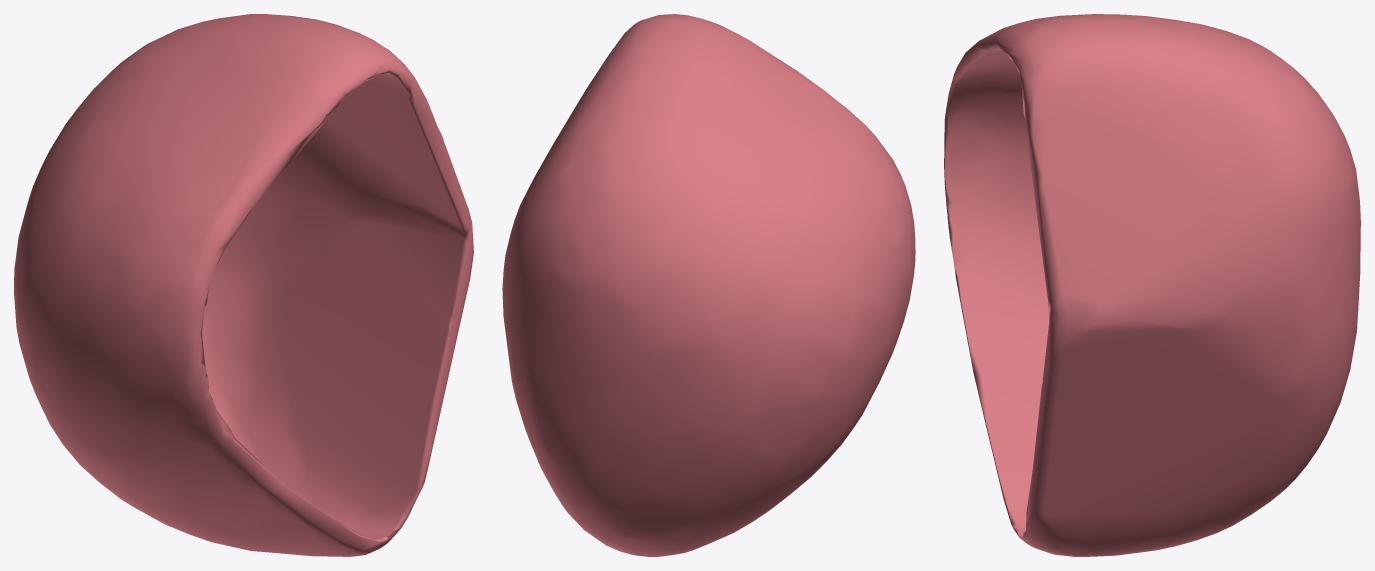
3 renders of one model, left to right at view 1: azimuth 30°, elevation 25°; view 2: azimuth 150°, elevation 25°; view 3: azimuth 270°, elevation 25°, orthographic. The views are drawn at different scales.
Visible parts, largest first — view 1: 肺动脉瓣右半月瓣; view 2: 肺动脉瓣右半月瓣; view 3: 肺动脉瓣右半月瓣.
Boxes of the visible parts, bbox=[...] form: 肺动脉瓣右半月瓣: bbox=[14, 14, 473, 556]; 肺动脉瓣右半月瓣: bbox=[502, 14, 915, 556]; 肺动脉瓣右半月瓣: bbox=[944, 14, 1360, 556].
Size of the model in its own units: 0.0287 by 0.0366 by 0.0262.
